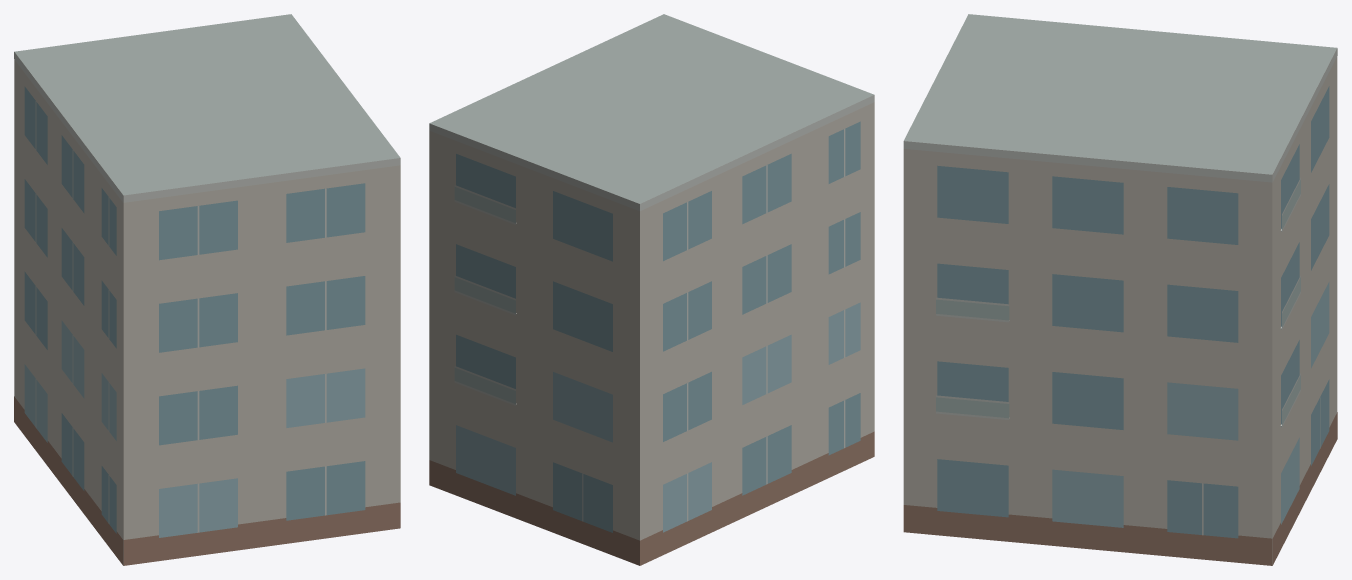
File: residential-1fab6c01-2d70-4395-9c2c-6e90eca3f893.glb
The picture shows the model from 3 angles, left to right: view 1: azimuth 30°, elevation 25°; view 2: azimuth 150°, elevation 25°; view 3: azimuth 270°, elevation 25°; orthographic projection. The views are drawn at different scales.
Parts seen in each view (by area): view 1: residential-1fab6c01-2d70-4395-9c2c-6e90eca3f893.tmp; view 2: residential-1fab6c01-2d70-4395-9c2c-6e90eca3f893.tmp; view 3: residential-1fab6c01-2d70-4395-9c2c-6e90eca3f893.tmp.
Part boxes in pixels (x1=…): residential-1fab6c01-2d70-4395-9c2c-6e90eca3f893.tmp: x1=14, y1=14, x2=400, y2=565; residential-1fab6c01-2d70-4395-9c2c-6e90eca3f893.tmp: x1=429, y1=14, x2=874, y2=565; residential-1fab6c01-2d70-4395-9c2c-6e90eca3f893.tmp: x1=903, y1=14, x2=1337, y2=565.
Bounding box in the file's own units: 10.76 × 12.2 × 12.28.
